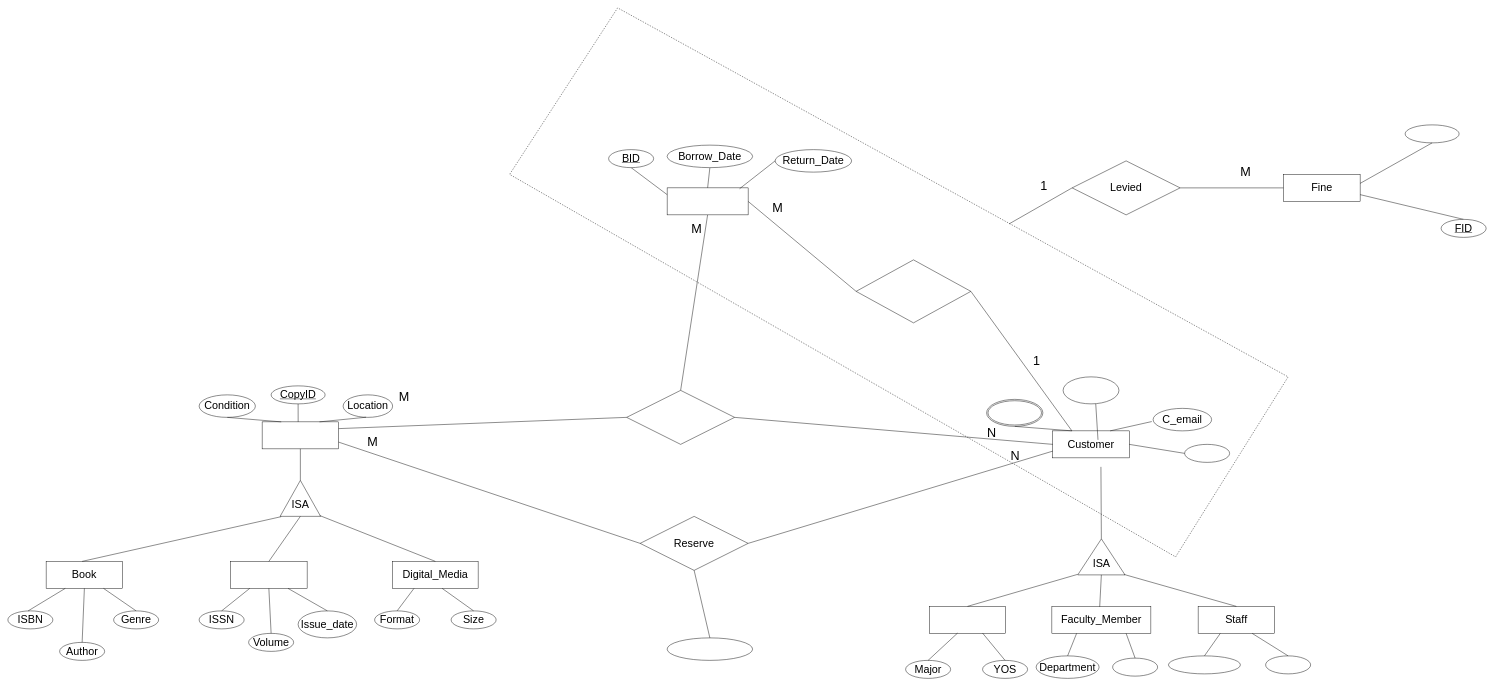
Image size: 1494x686. Some labels were removed from this diagram. The shapes that lost their labels are listed below. From the top down, each one's centre as x and y in pixels, then its label:
At pixel 1432 133: "Amount".
At pixel 707 201: "Borrow_Details".
At pixel 913 291: "Has".
At pixel 1091 390: "C_name".
At pixel 680 417: "Borrow".
At pixel 1014 412: "Tel_no".
At pixel 300 435: "Item".
At pixel 1207 453: "CID".
At pixel 268 574: "Journal".
At pixel 967 619: "Student".
At pixel 710 648: "Reserve_Date".
At pixel 1135 667: "Title".
At pixel 1204 664: "Designation".
At pixel 1288 664: "Office".
